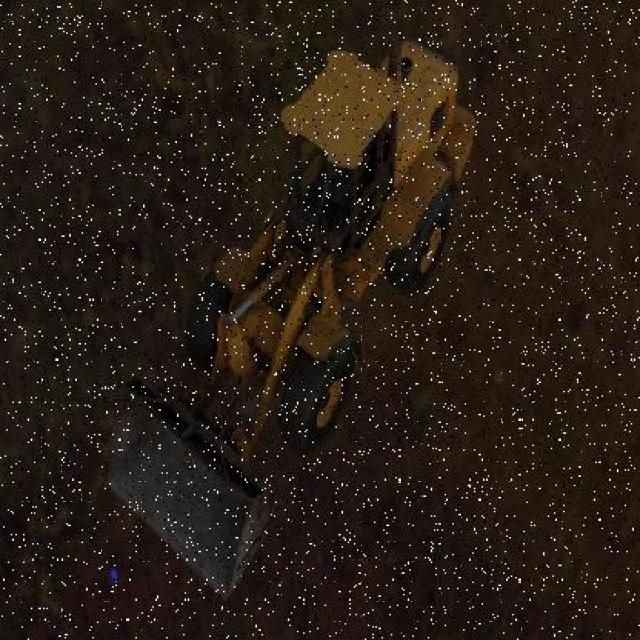buldozerpayloadergrader: (104, 33, 476, 601)
